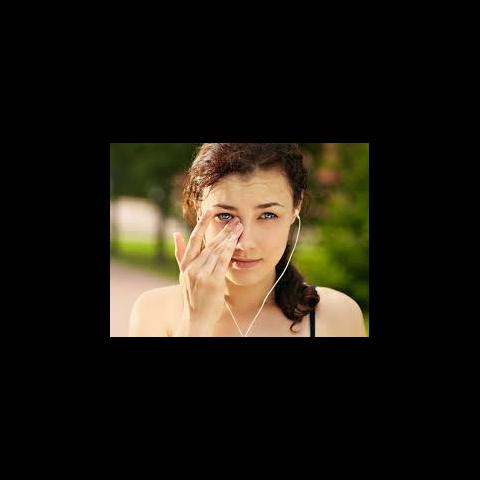opened: (203, 199, 296, 226)
